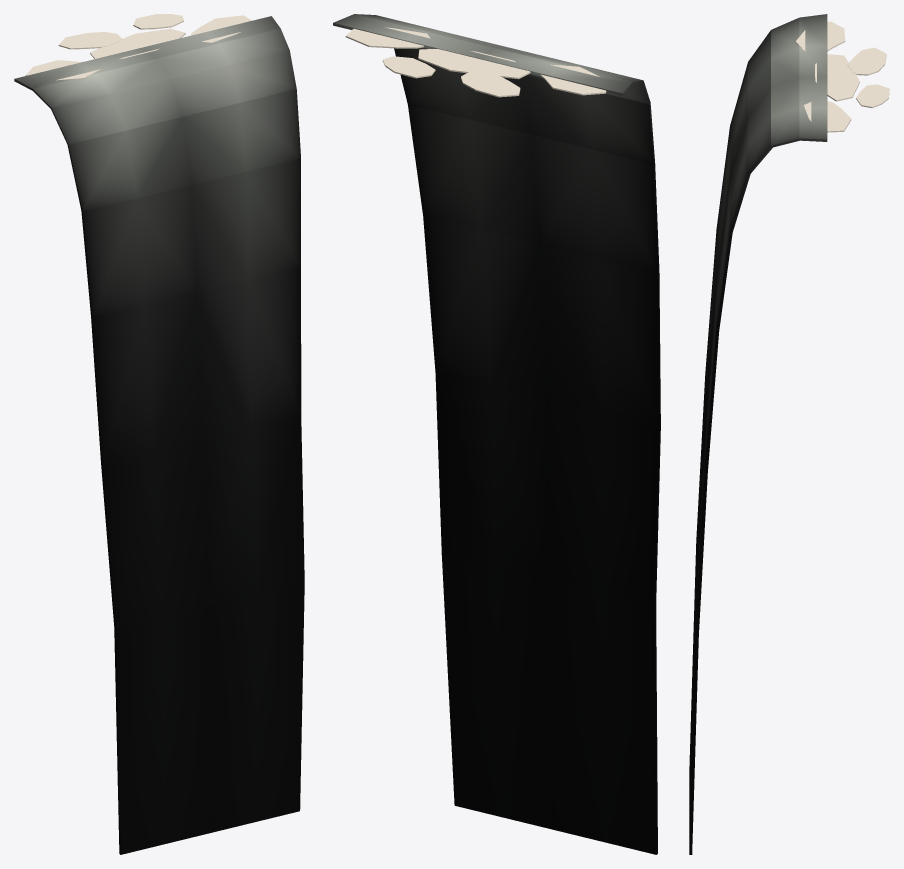
File: SM_VKI_Prop_Waterfall_Chasm.fbx
3 views of the same model, side by side, from view 1: azimuth 30°, elevation 25°; view 2: azimuth 150°, elevation 25°; view 3: azimuth 270°, elevation 25° (orthographic). The views are drawn at different scales.
Visible parts, largest first — view 1: SM_VKI_Prop_Waterfall_Chasm.001; view 2: SM_VKI_Prop_Waterfall_Chasm.001; view 3: SM_VKI_Prop_Waterfall_Chasm.001.
Part boxes in pixels (x1,y1,x2,y2): SM_VKI_Prop_Waterfall_Chasm.001: (14, 14, 304, 854); SM_VKI_Prop_Waterfall_Chasm.001: (333, 14, 660, 854); SM_VKI_Prop_Waterfall_Chasm.001: (689, 14, 889, 854).
Size of the model in its own units: 1.32 by 3.6 by 0.8885.
